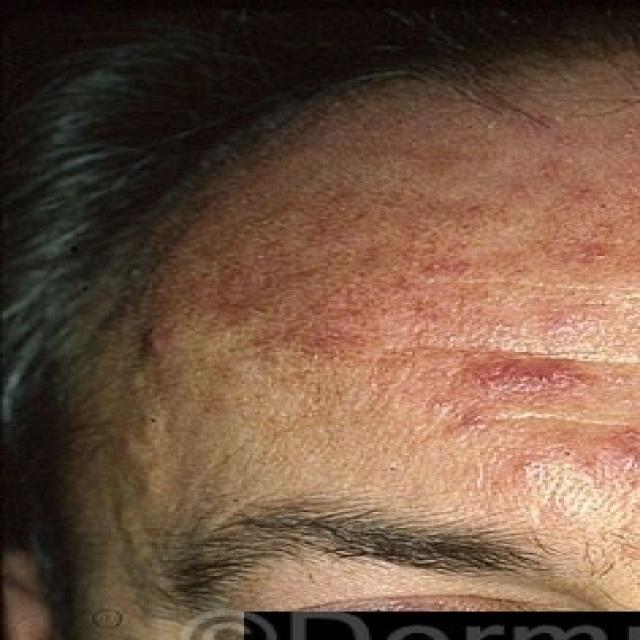Rosacea: (203, 256, 590, 403)
